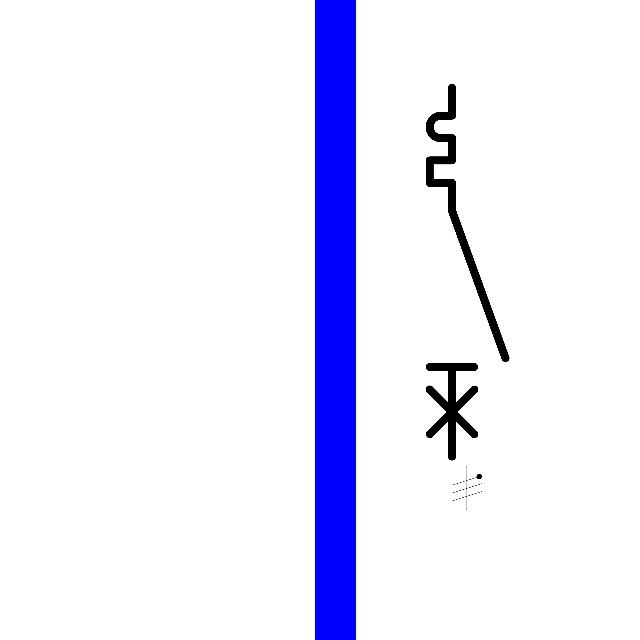interruptor_termomagnetico: (420, 78, 515, 466)
